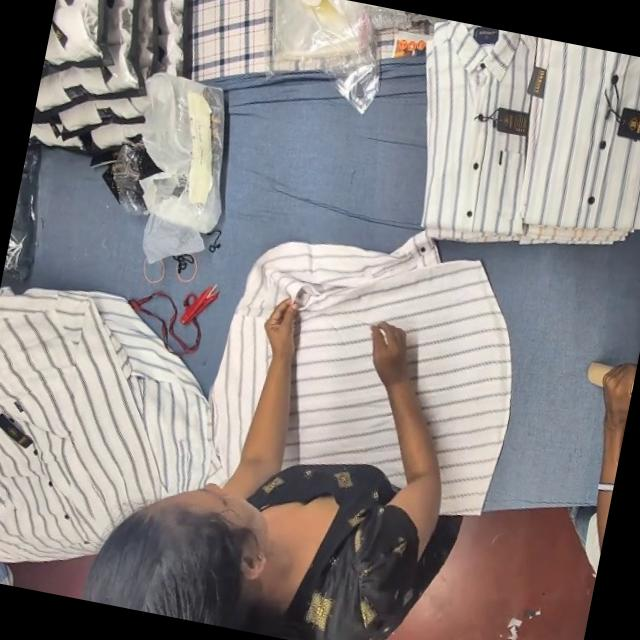new-garment: (212, 232, 509, 511)
